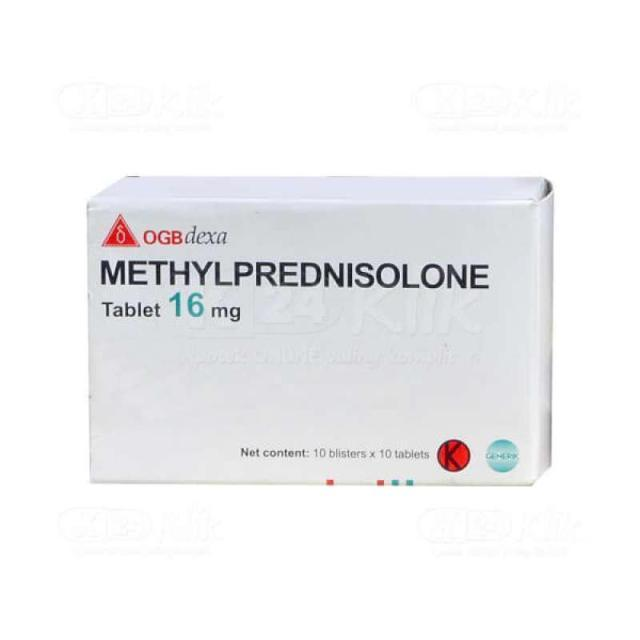drug-name: (97, 253, 499, 293)
